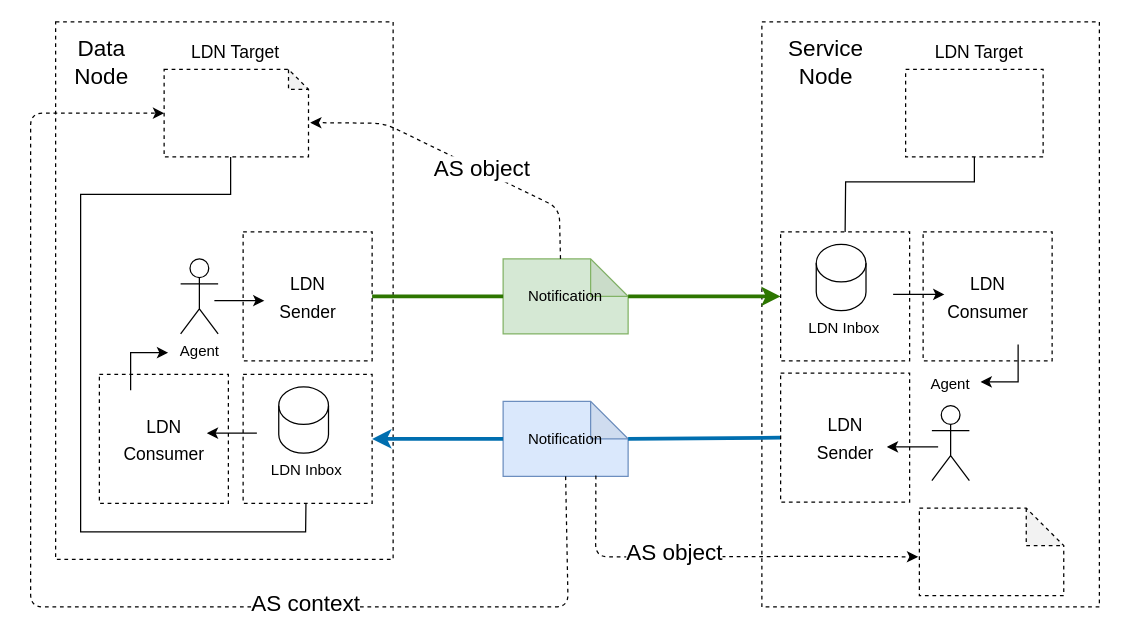
Image size: 1121x639. Some labels were removed from this diagram. Each missing label, with the centre of its shape:
"Artifact" goes at point (235, 112).
"Service result" goes at point (991, 551).
"Value-adding Service" goes at point (973, 112).
